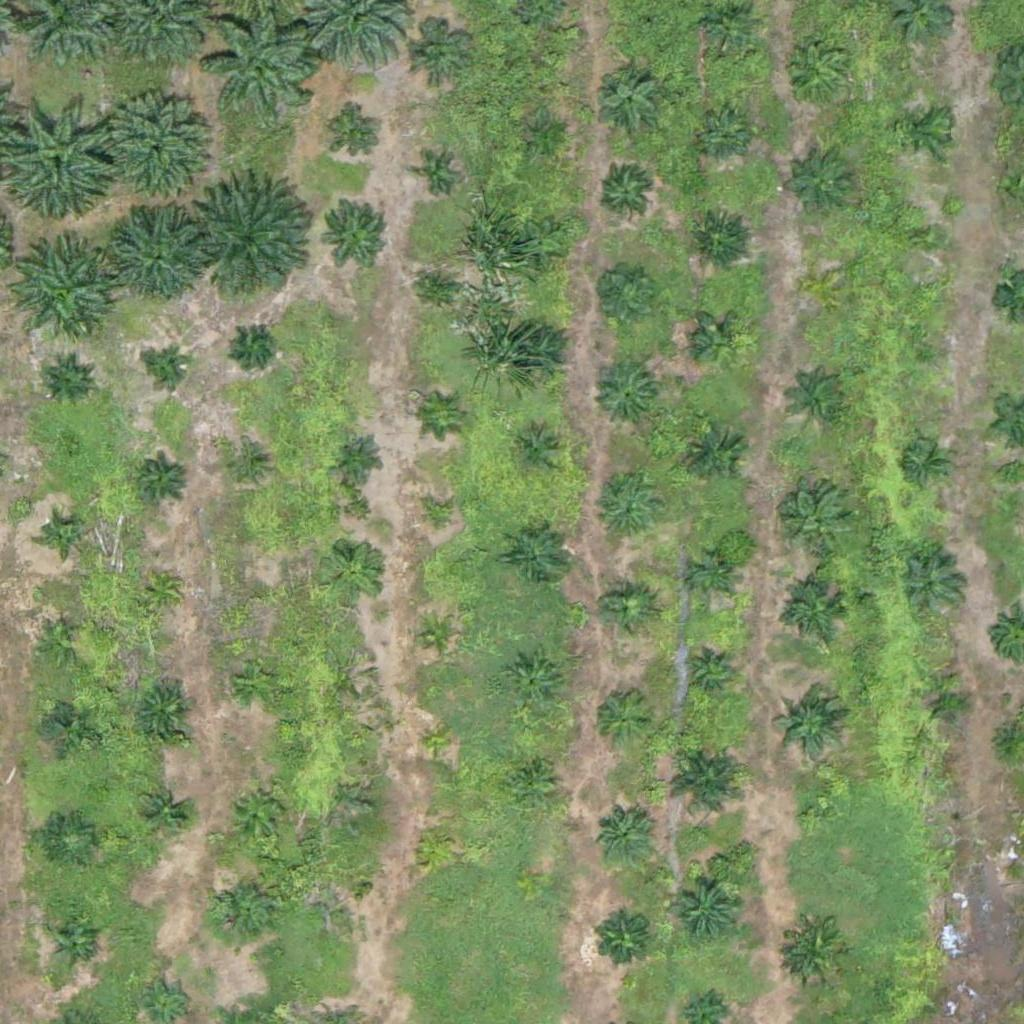Kelapa_Sawit: (194, 179, 319, 304), (206, 6, 319, 119), (95, 92, 208, 205), (4, 242, 116, 355), (105, 203, 205, 304), (664, 738, 751, 826), (772, 689, 847, 765), (586, 259, 661, 335), (667, 869, 742, 944), (318, 195, 393, 270), (590, 687, 653, 750), (595, 480, 658, 543), (593, 804, 656, 867), (901, 553, 964, 616), (784, 921, 847, 984), (209, 878, 272, 941), (508, 523, 571, 586), (504, 653, 567, 716), (509, 323, 572, 386), (405, 22, 468, 85), (789, 152, 852, 215), (688, 207, 751, 270), (594, 364, 656, 427), (591, 907, 653, 970), (684, 424, 746, 487), (784, 581, 846, 644), (786, 491, 849, 553), (792, 369, 854, 432), (133, 680, 195, 743), (227, 781, 289, 844), (595, 66, 657, 129), (789, 42, 851, 105), (323, 541, 385, 604), (45, 815, 95, 866), (513, 427, 563, 478), (43, 697, 93, 748), (332, 112, 382, 163), (897, 102, 947, 153), (922, 679, 972, 730), (520, 221, 570, 272), (138, 786, 188, 837), (50, 918, 100, 969), (602, 586, 652, 636), (694, 316, 744, 366), (901, 437, 951, 487), (43, 355, 93, 405), (137, 453, 187, 503), (507, 754, 557, 804), (602, 168, 652, 218), (696, 109, 746, 159), (333, 432, 383, 482), (233, 657, 283, 707), (36, 617, 86, 667), (683, 647, 732, 698), (427, 397, 465, 435), (234, 325, 272, 363), (527, 114, 565, 152), (420, 498, 458, 536), (418, 617, 456, 655), (420, 724, 458, 762), (416, 824, 454, 862), (142, 571, 180, 609), (45, 516, 83, 554), (151, 351, 188, 389), (693, 556, 730, 594), (228, 449, 265, 487), (240, 578, 277, 616), (323, 876, 360, 914), (418, 159, 455, 196), (422, 269, 459, 306), (915, 339, 940, 364), (915, 223, 940, 248), (810, 277, 835, 302), (800, 804, 825, 829), (637, 14, 662, 39)
